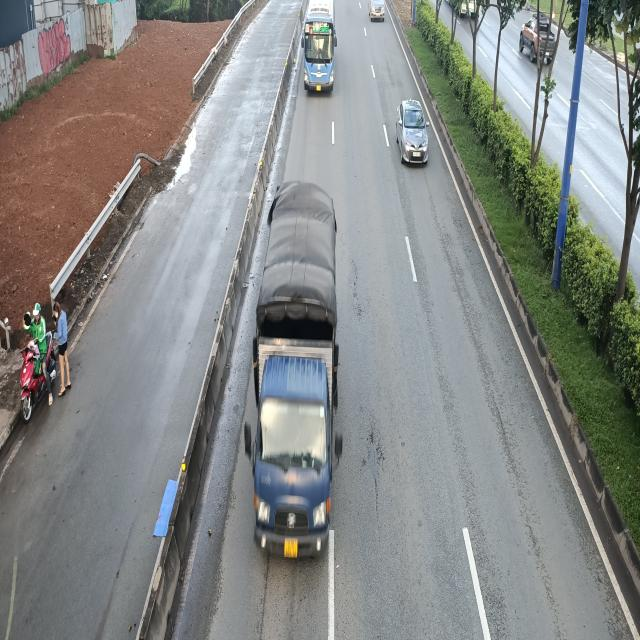car: (398, 100, 431, 167)
coach: (301, 0, 338, 93)
truck: (243, 182, 342, 562)
